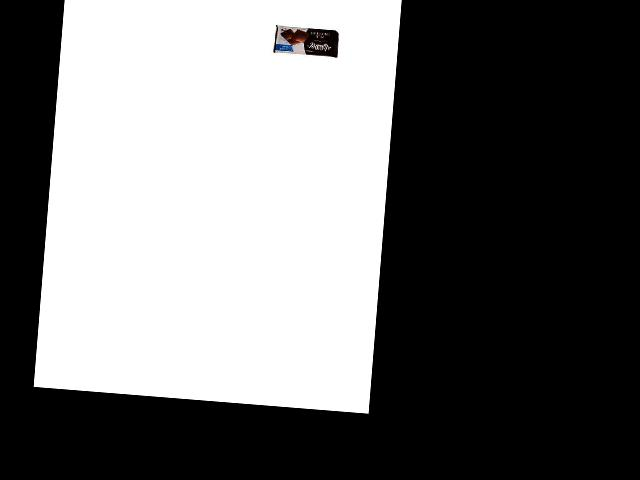chocolate: (272, 23, 338, 58)
